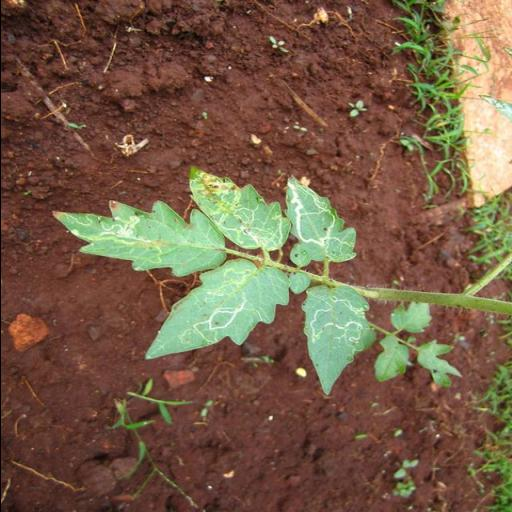Leaf Miner: (140, 258, 290, 360), (50, 200, 226, 278), (186, 164, 292, 252), (299, 281, 375, 395), (284, 174, 356, 264)
